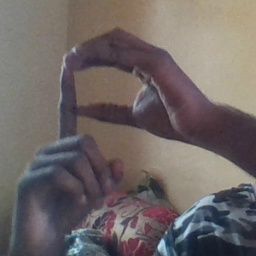P: (30, 25, 186, 211)
